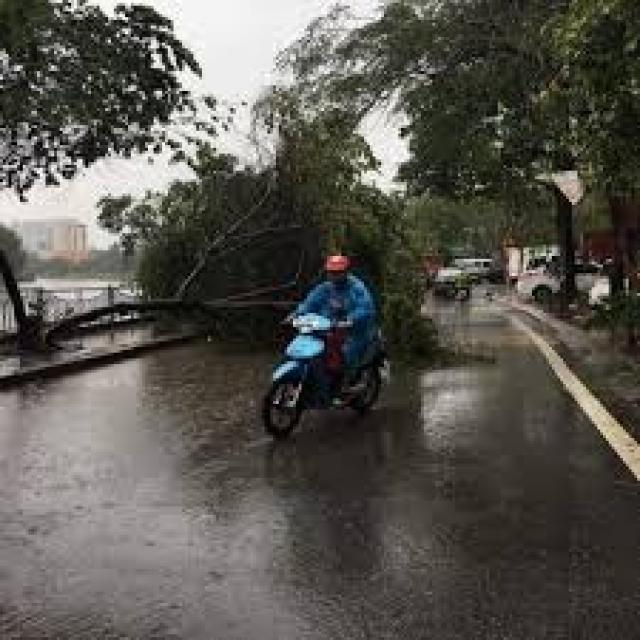fallen_object: (61, 204, 432, 367)
